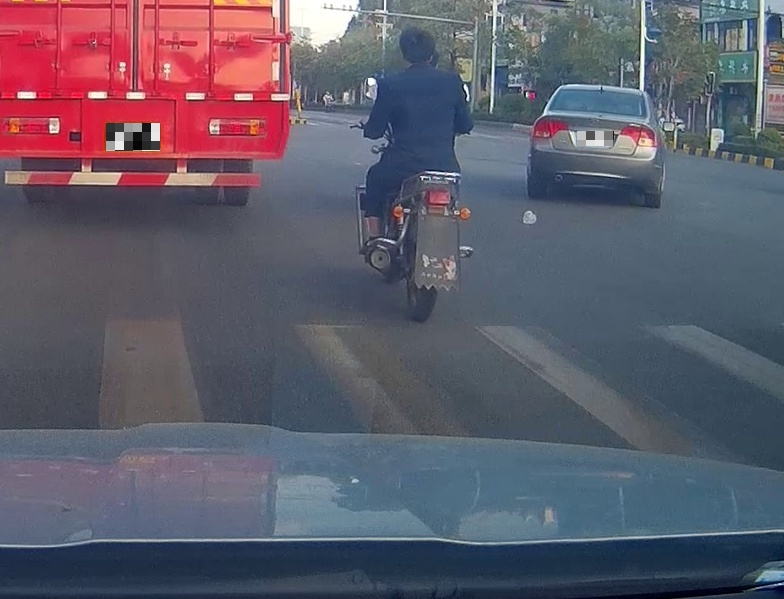L_light: (532, 118, 569, 139)
R_light: (619, 125, 656, 148), (594, 89, 611, 95)
day-right: (526, 84, 662, 209)
plate_1: (106, 123, 160, 151)
plate_2: (577, 131, 614, 146)
